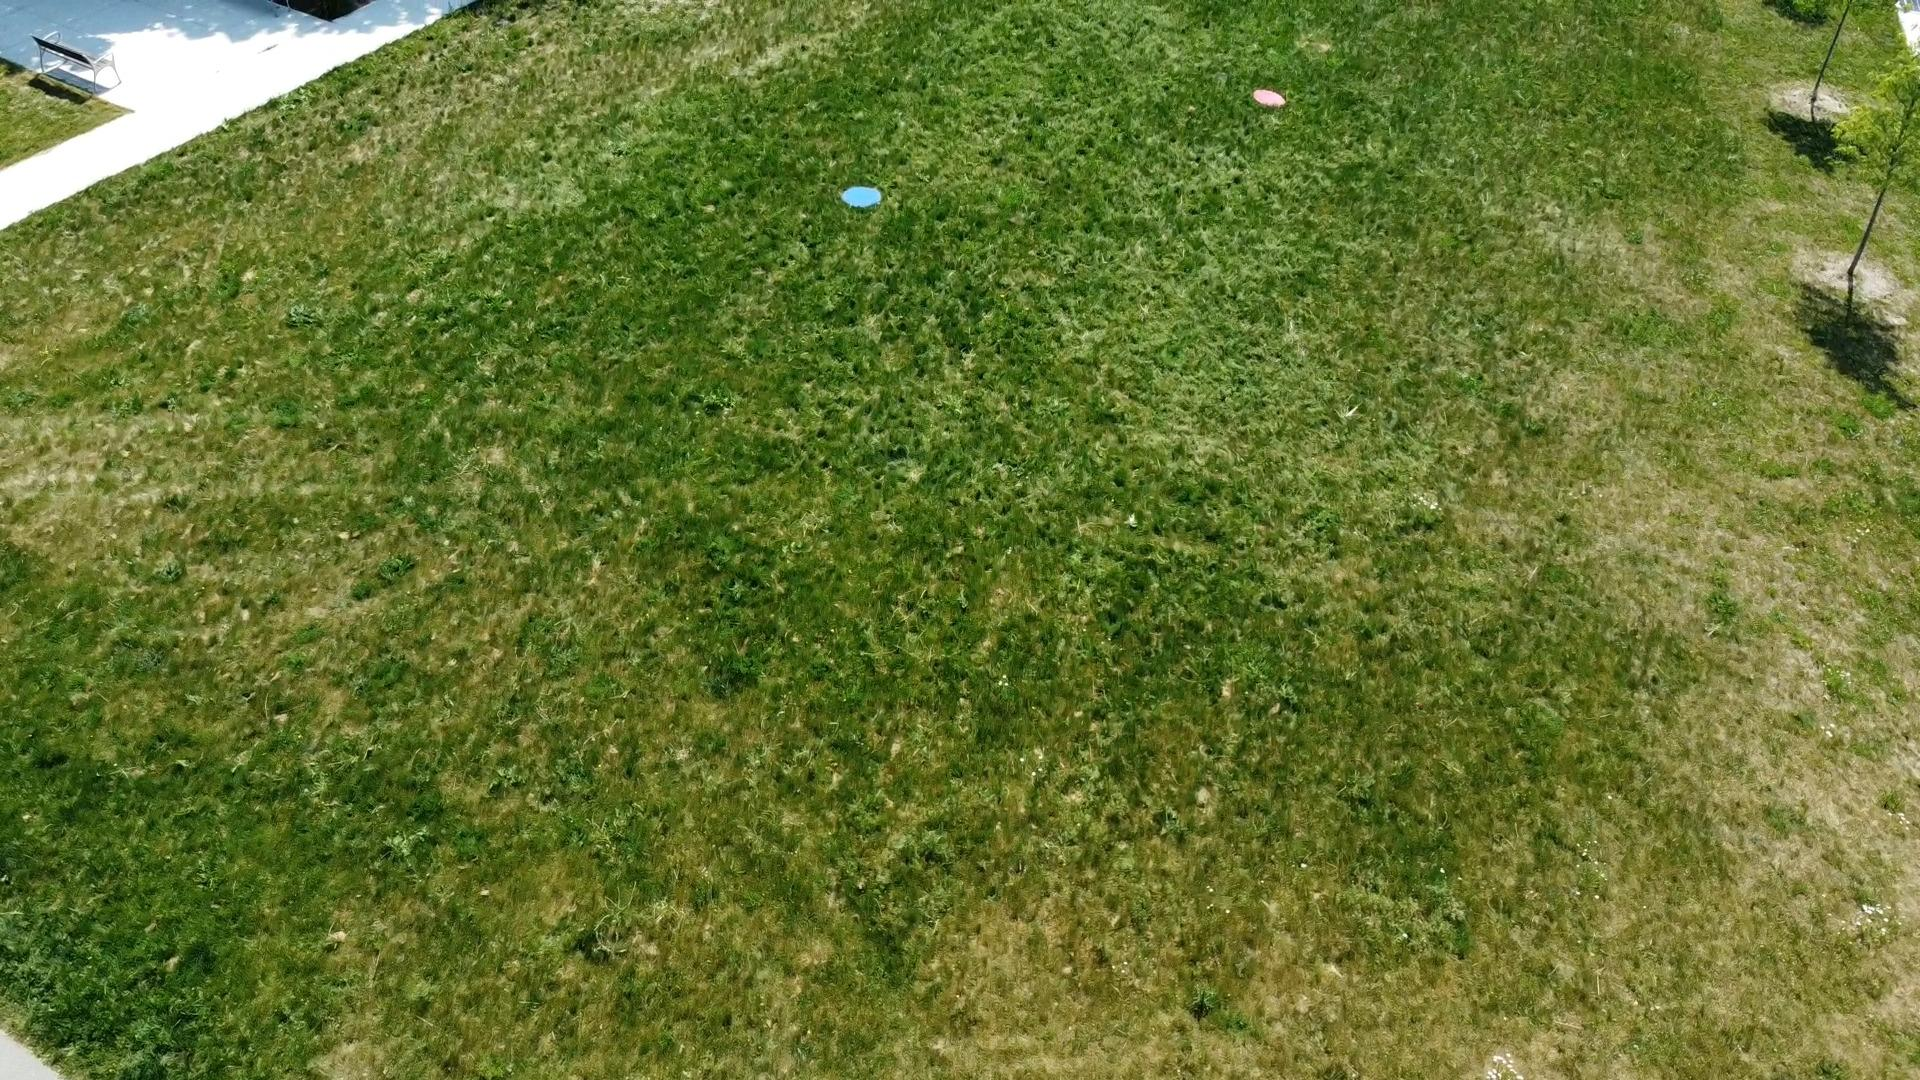Blue: (839, 182, 884, 210)
Red: (1249, 87, 1288, 109)
